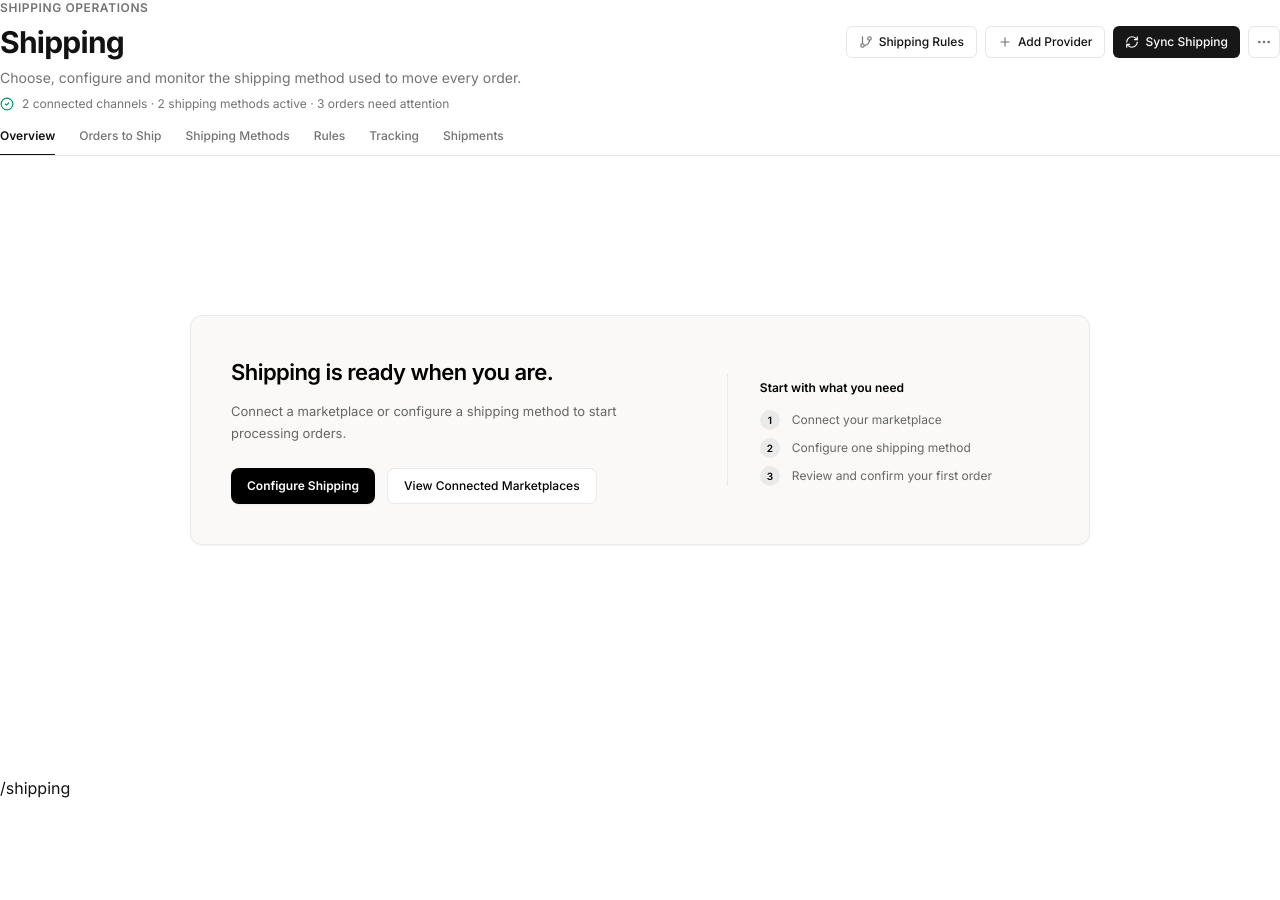
Scenario: empty workspace › nothing configured yet: the guided start offers the setup
Check: the heading "Shipping is ready when you are." is shown, box [231, 359, 553, 385]
Click the button "Configure Shipping": (303, 486) [231, 468, 375, 504]
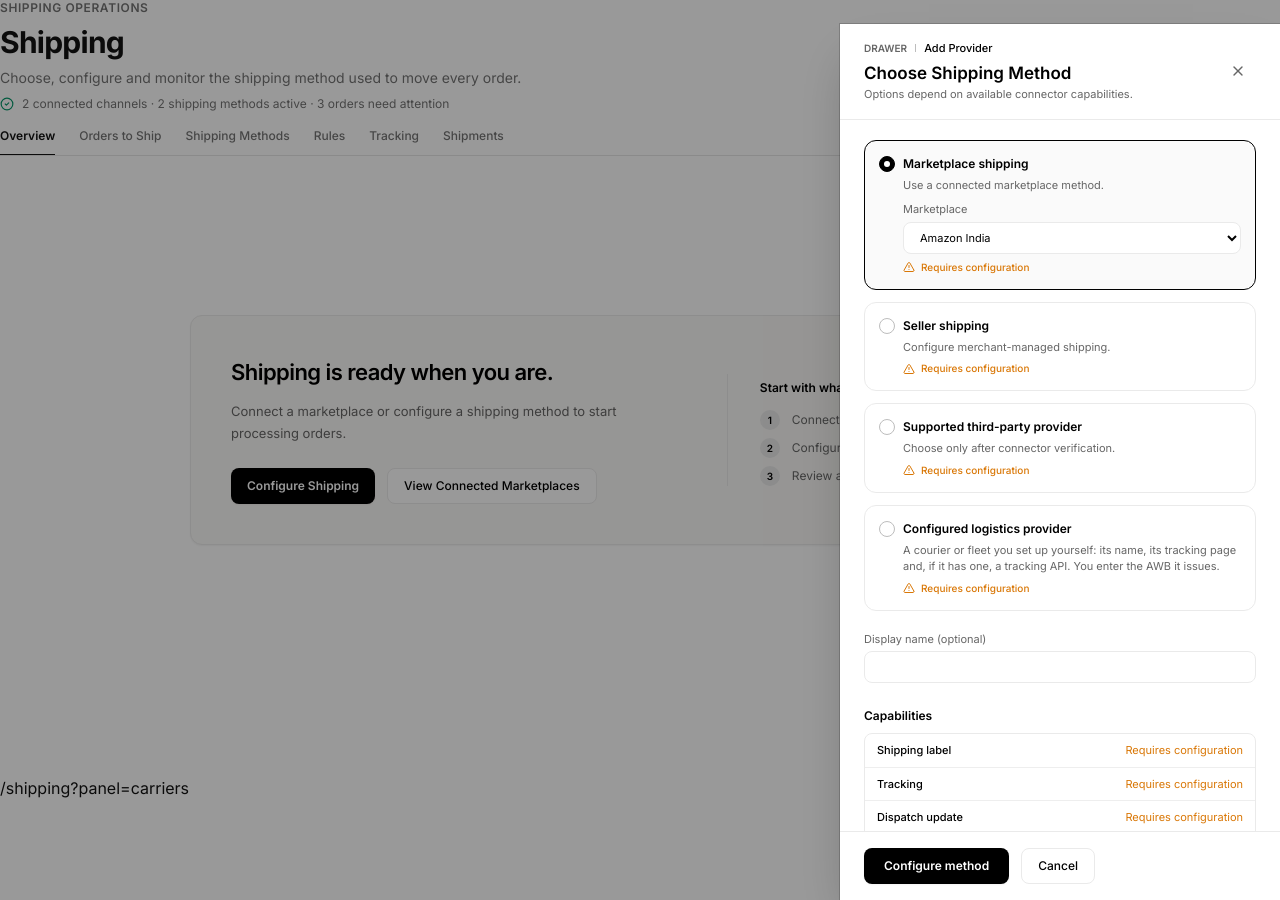
Check: the text with test id "loc" shows "panel=carriers", box [0, 778, 189, 798]
Check: the dialog "Choose Shipping Method" is shown, box [840, 24, 1279, 899]
